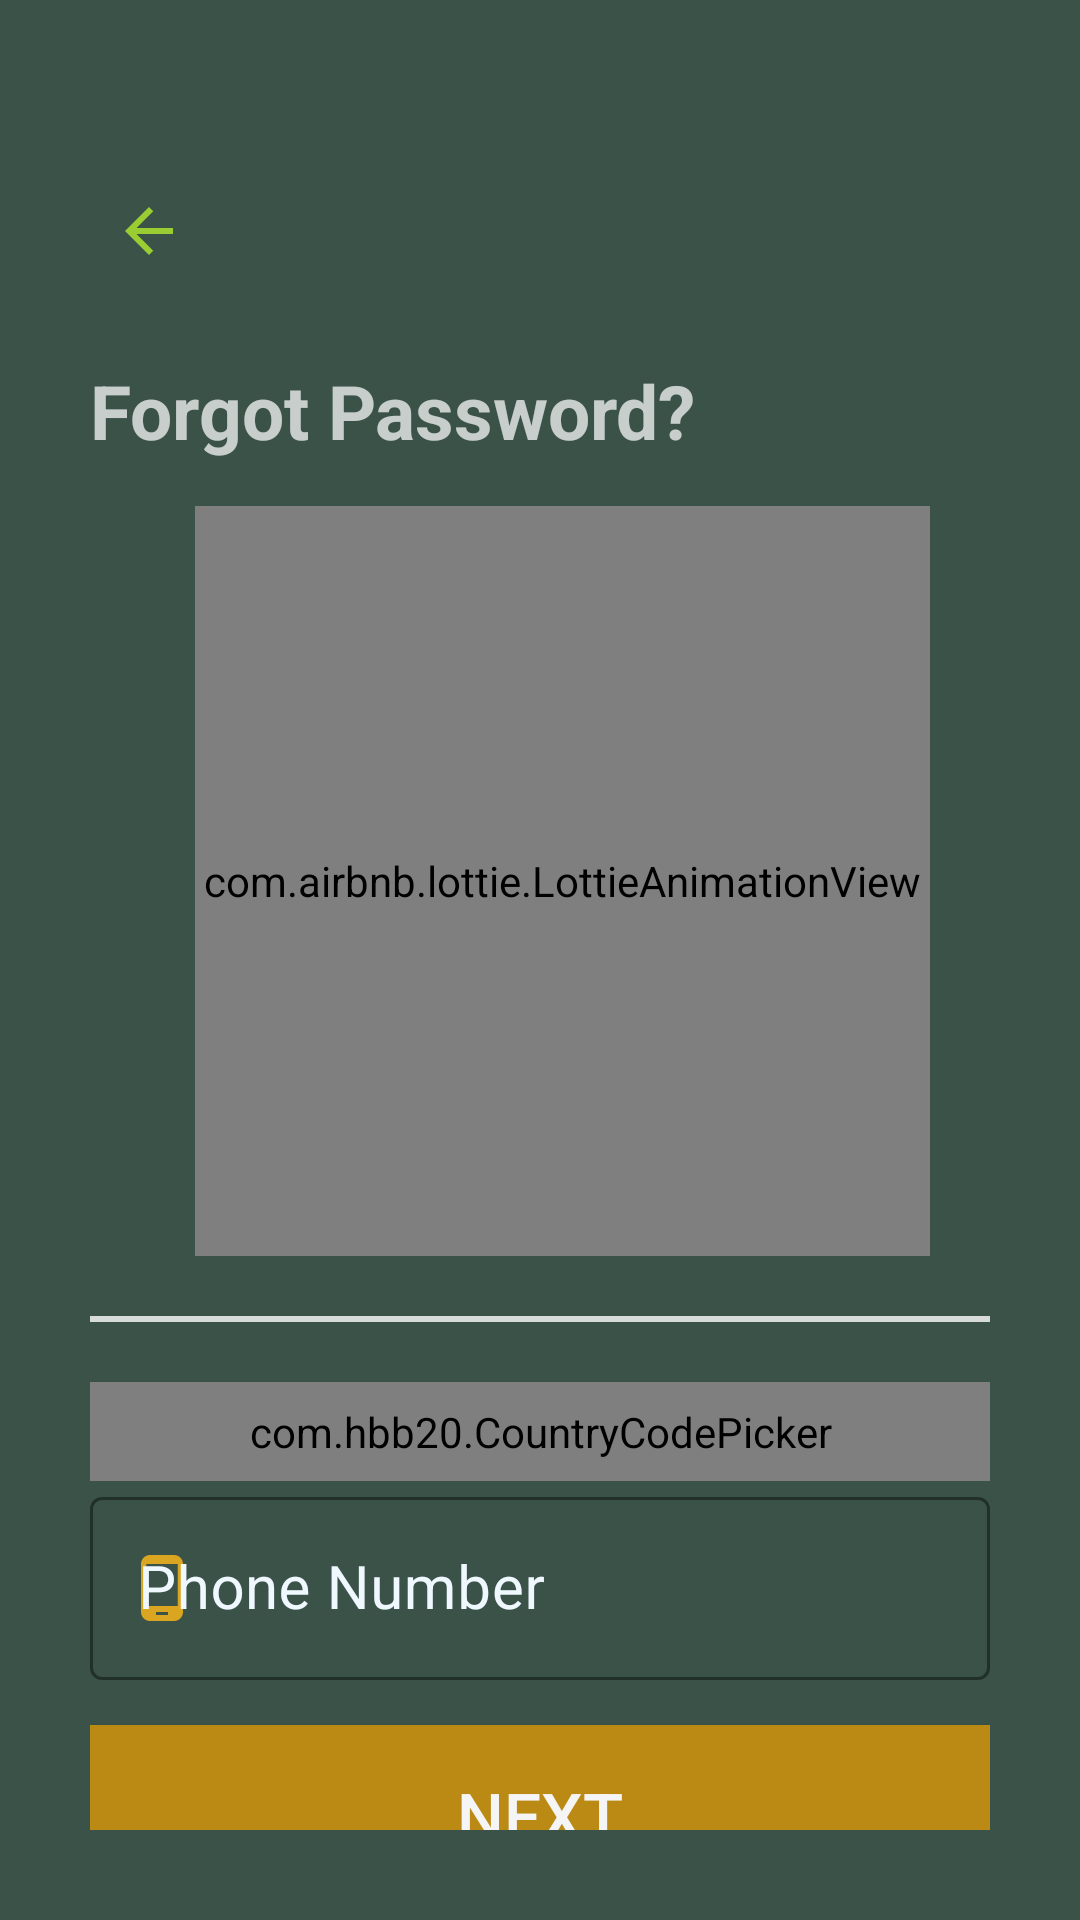

Icon click points for this 1080px×1920px phone screenshot, format [x,y]:
arrow back: [149,231]
